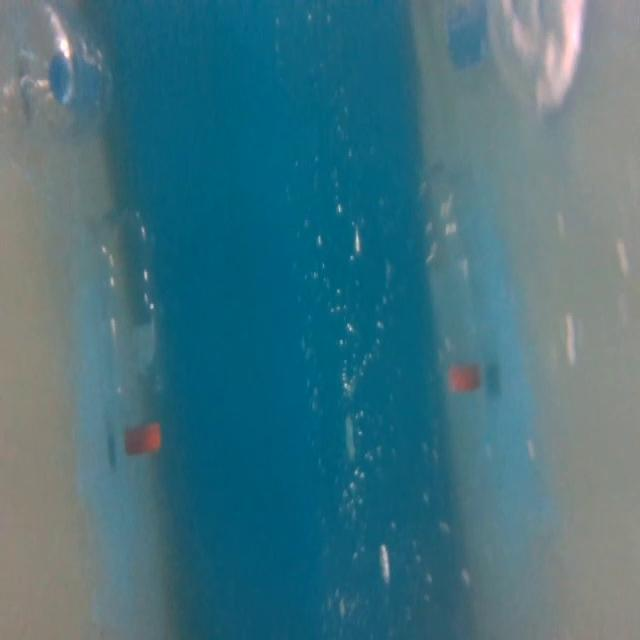plastic bottle: (89, 191, 184, 459)
